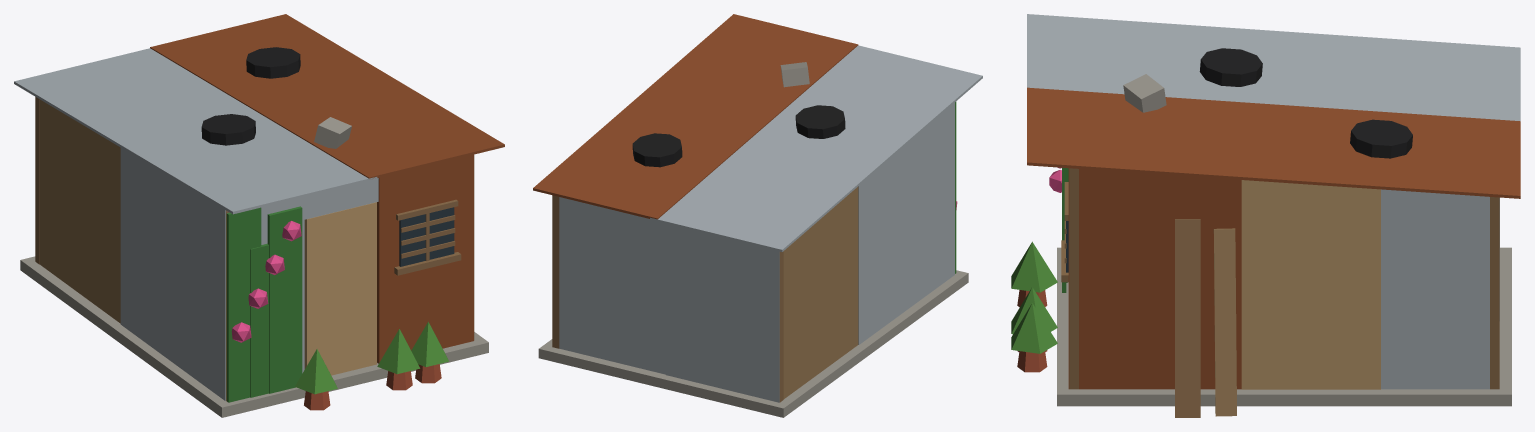
File: BAY_I_TinShack_S.glb
3 views of the same model, side by side, from view 1: azimuth 30°, elevation 25°; view 2: azimuth 150°, elevation 25°; view 3: azimuth 270°, elevation 25° (orthographic). The views are drawn at different scales.
Parts seen in each view (by area): view 1: BAY_I_TinShack_S; view 2: BAY_I_TinShack_S; view 3: BAY_I_TinShack_S.
Boxes of the visible parts, left/top/right/bottom form: BAY_I_TinShack_S: left=14, top=14, right=504, bottom=417; BAY_I_TinShack_S: left=533, top=14, right=982, bottom=417; BAY_I_TinShack_S: left=1011, top=14, right=1520, bottom=417.
Size of the model in its own units: 3.57 by 2.68 by 4.74.
1 material, 1 textured.
